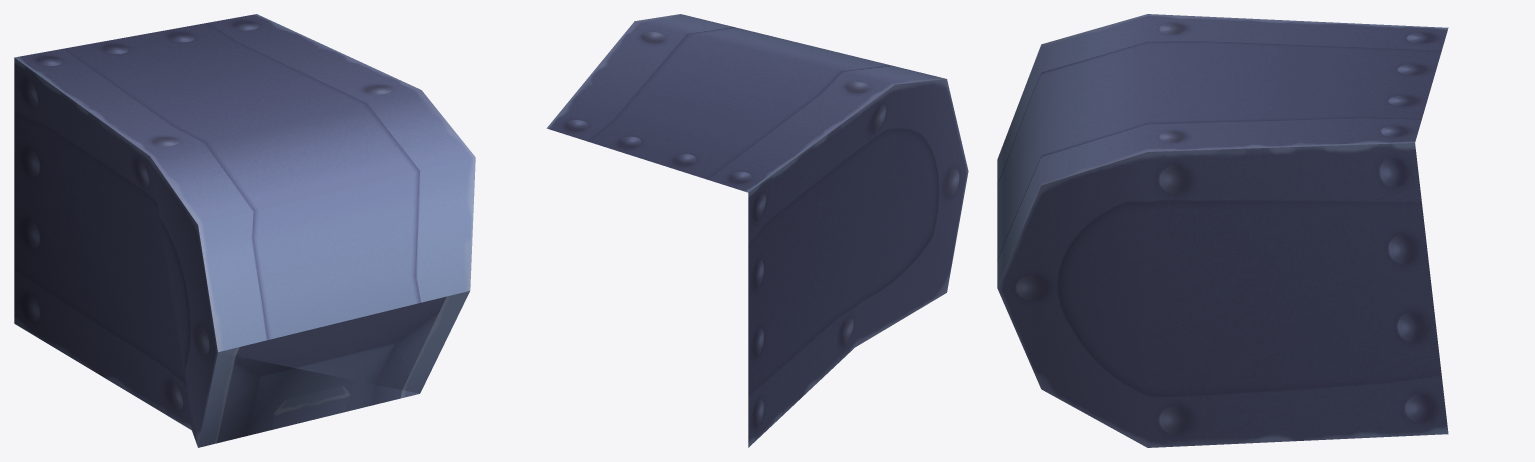
Rendered from mailbox_busted.glb.
3 views of the same model, side by side, from view 1: azimuth 30°, elevation 25°; view 2: azimuth 150°, elevation 25°; view 3: azimuth 270°, elevation 25° (orthographic). The views are drawn at different scales.
Parts seen in each view (by area): view 1: city_base.mailbox_busted-MeshSets[mailbox_busted].Mesh[0]; view 2: city_base.mailbox_busted-MeshSets[mailbox_busted].Mesh[0]; view 3: city_base.mailbox_busted-MeshSets[mailbox_busted].Mesh[0].
Boxes of the visible parts, box(x1,y1,x2,y2) form: city_base.mailbox_busted-MeshSets[mailbox_busted].Mesh[0]: box(14, 14, 475, 447); city_base.mailbox_busted-MeshSets[mailbox_busted].Mesh[0]: box(546, 14, 968, 447); city_base.mailbox_busted-MeshSets[mailbox_busted].Mesh[0]: box(997, 14, 1448, 447).
Bounding box in the file's own units: 0.8028 × 0.7816 × 1.25.
2 materials, 2 textured.
